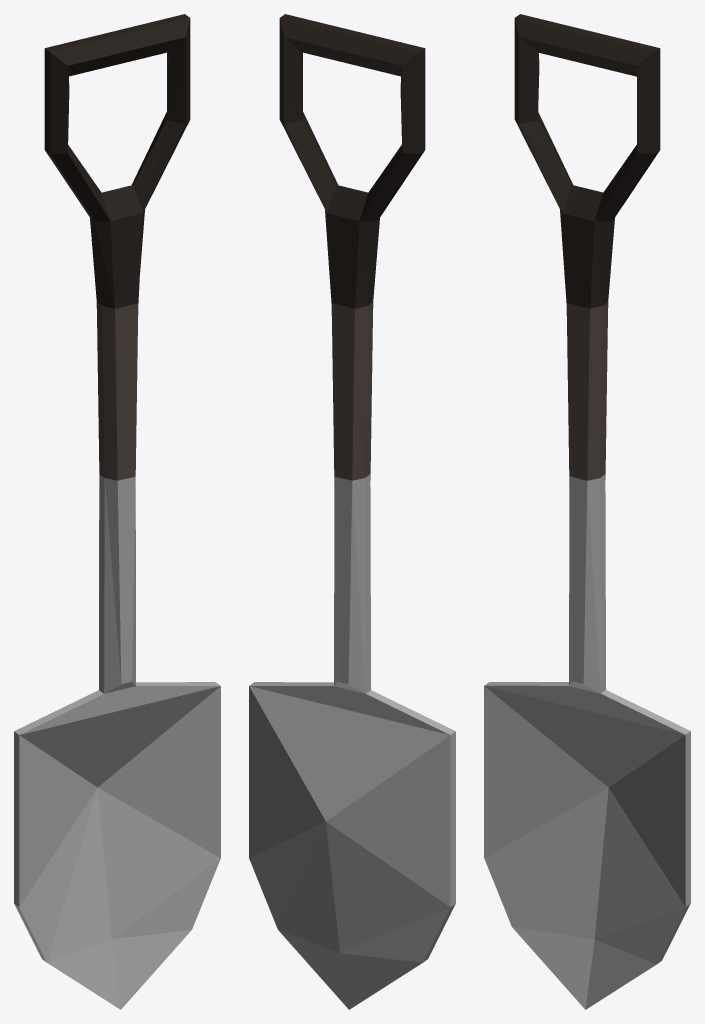
File: shovel.fbx
3 views of the same model, side by side, from view 1: azimuth 30°, elevation 25°; view 2: azimuth 150°, elevation 25°; view 3: azimuth 330°, elevation 25° (orthographic).
Visible parts, largest first — view 1: Cube; view 2: Cube; view 3: Cube.
Part boxes in pixels (<box>): Cube: <box>14,14,220,1009</box>; Cube: <box>249,14,455,1009</box>; Cube: <box>484,14,690,1009</box>.
Size of the model in its own units: 35 by 162 by 10.53.
1 material, 1 textured.
